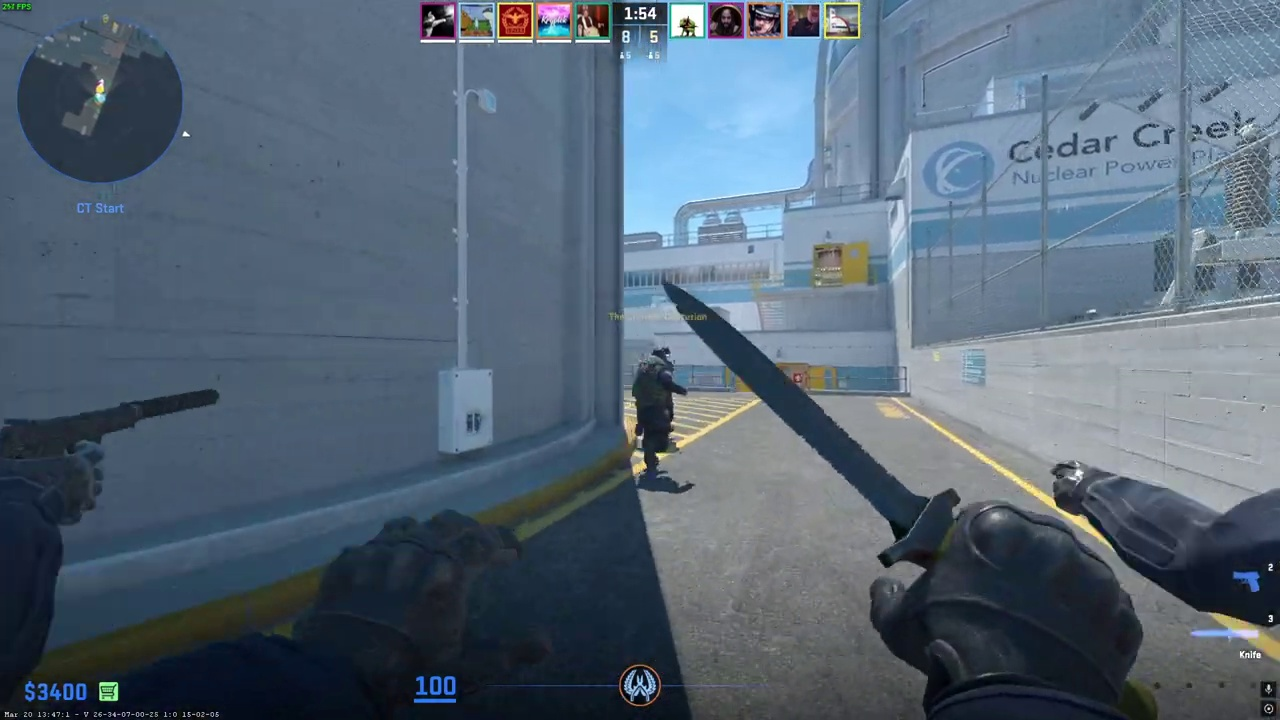CT: (632, 348, 687, 481)
